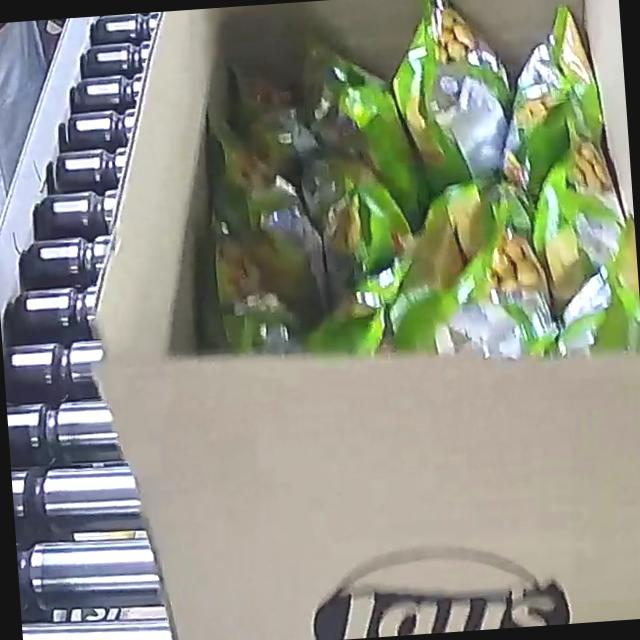yogurt: (184, 0, 640, 381)
